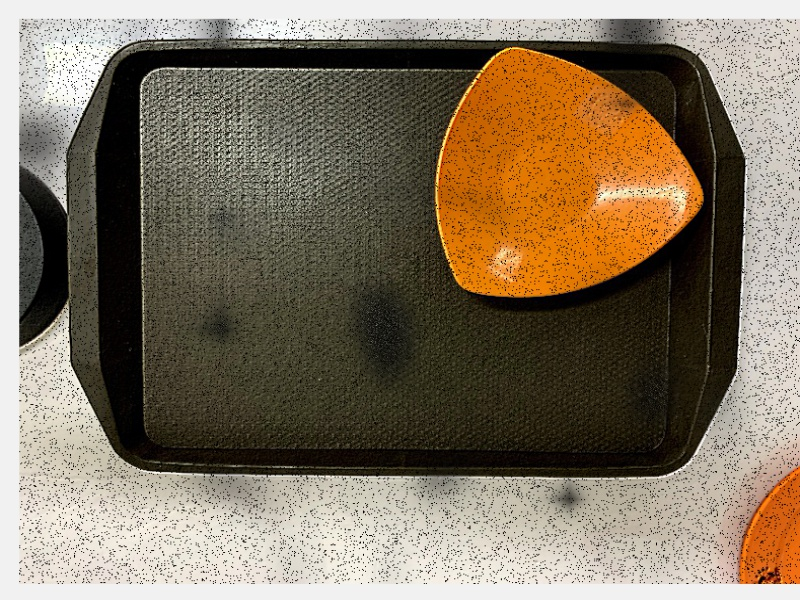dish11: (429, 44, 712, 305)
